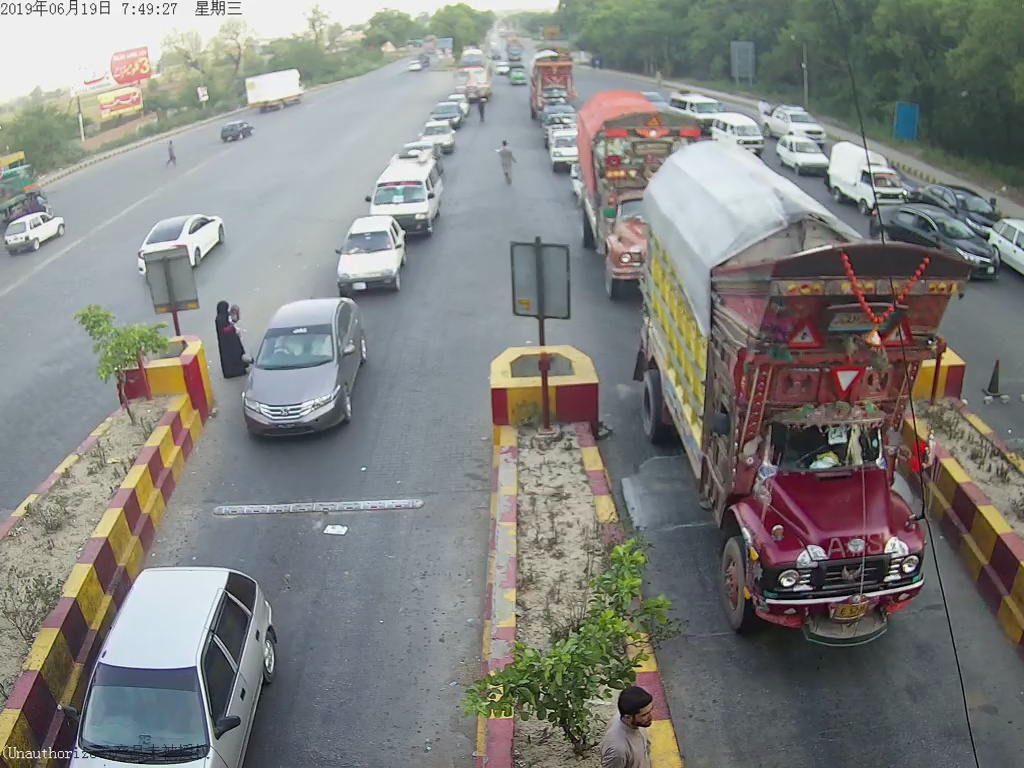Cat-1: (237, 293, 369, 440), (331, 213, 409, 296)
Cat-2: (371, 155, 451, 239)
Cat-4: (650, 147, 939, 647), (575, 90, 690, 295)
